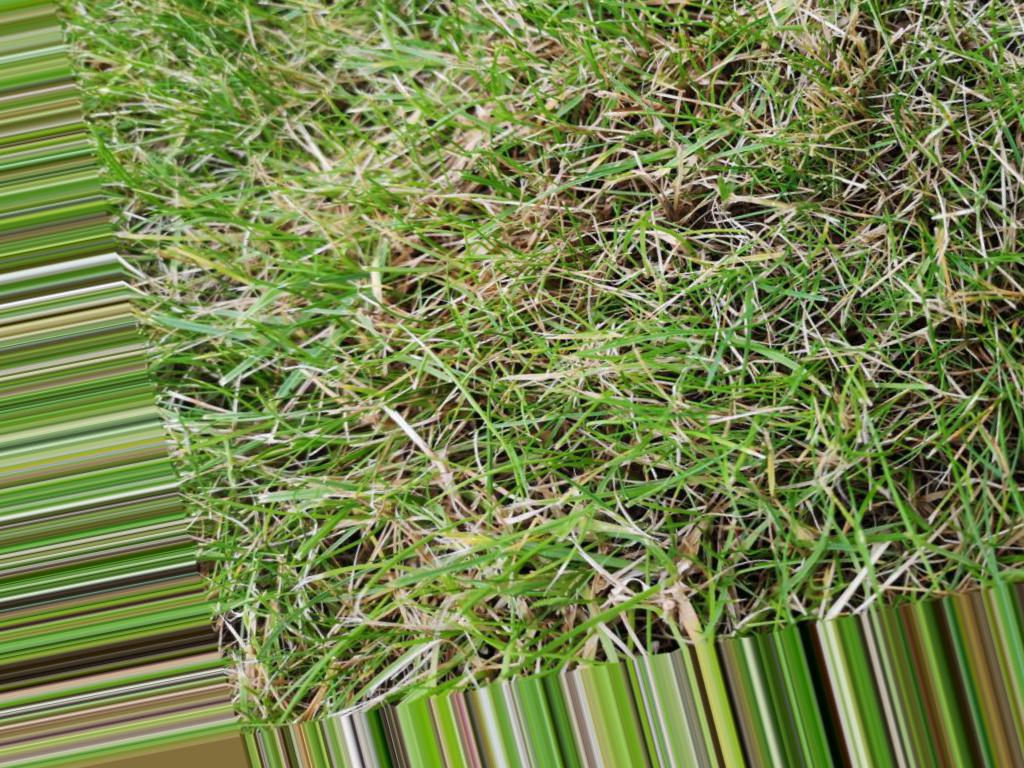patch: (680, 599, 692, 614)
